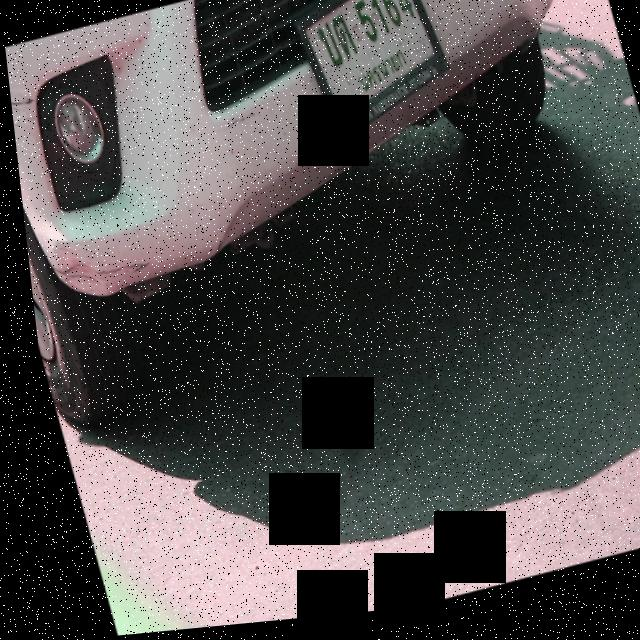text: (306, 0, 433, 124)
